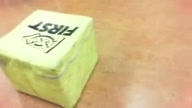cube: (1, 9, 98, 107)
